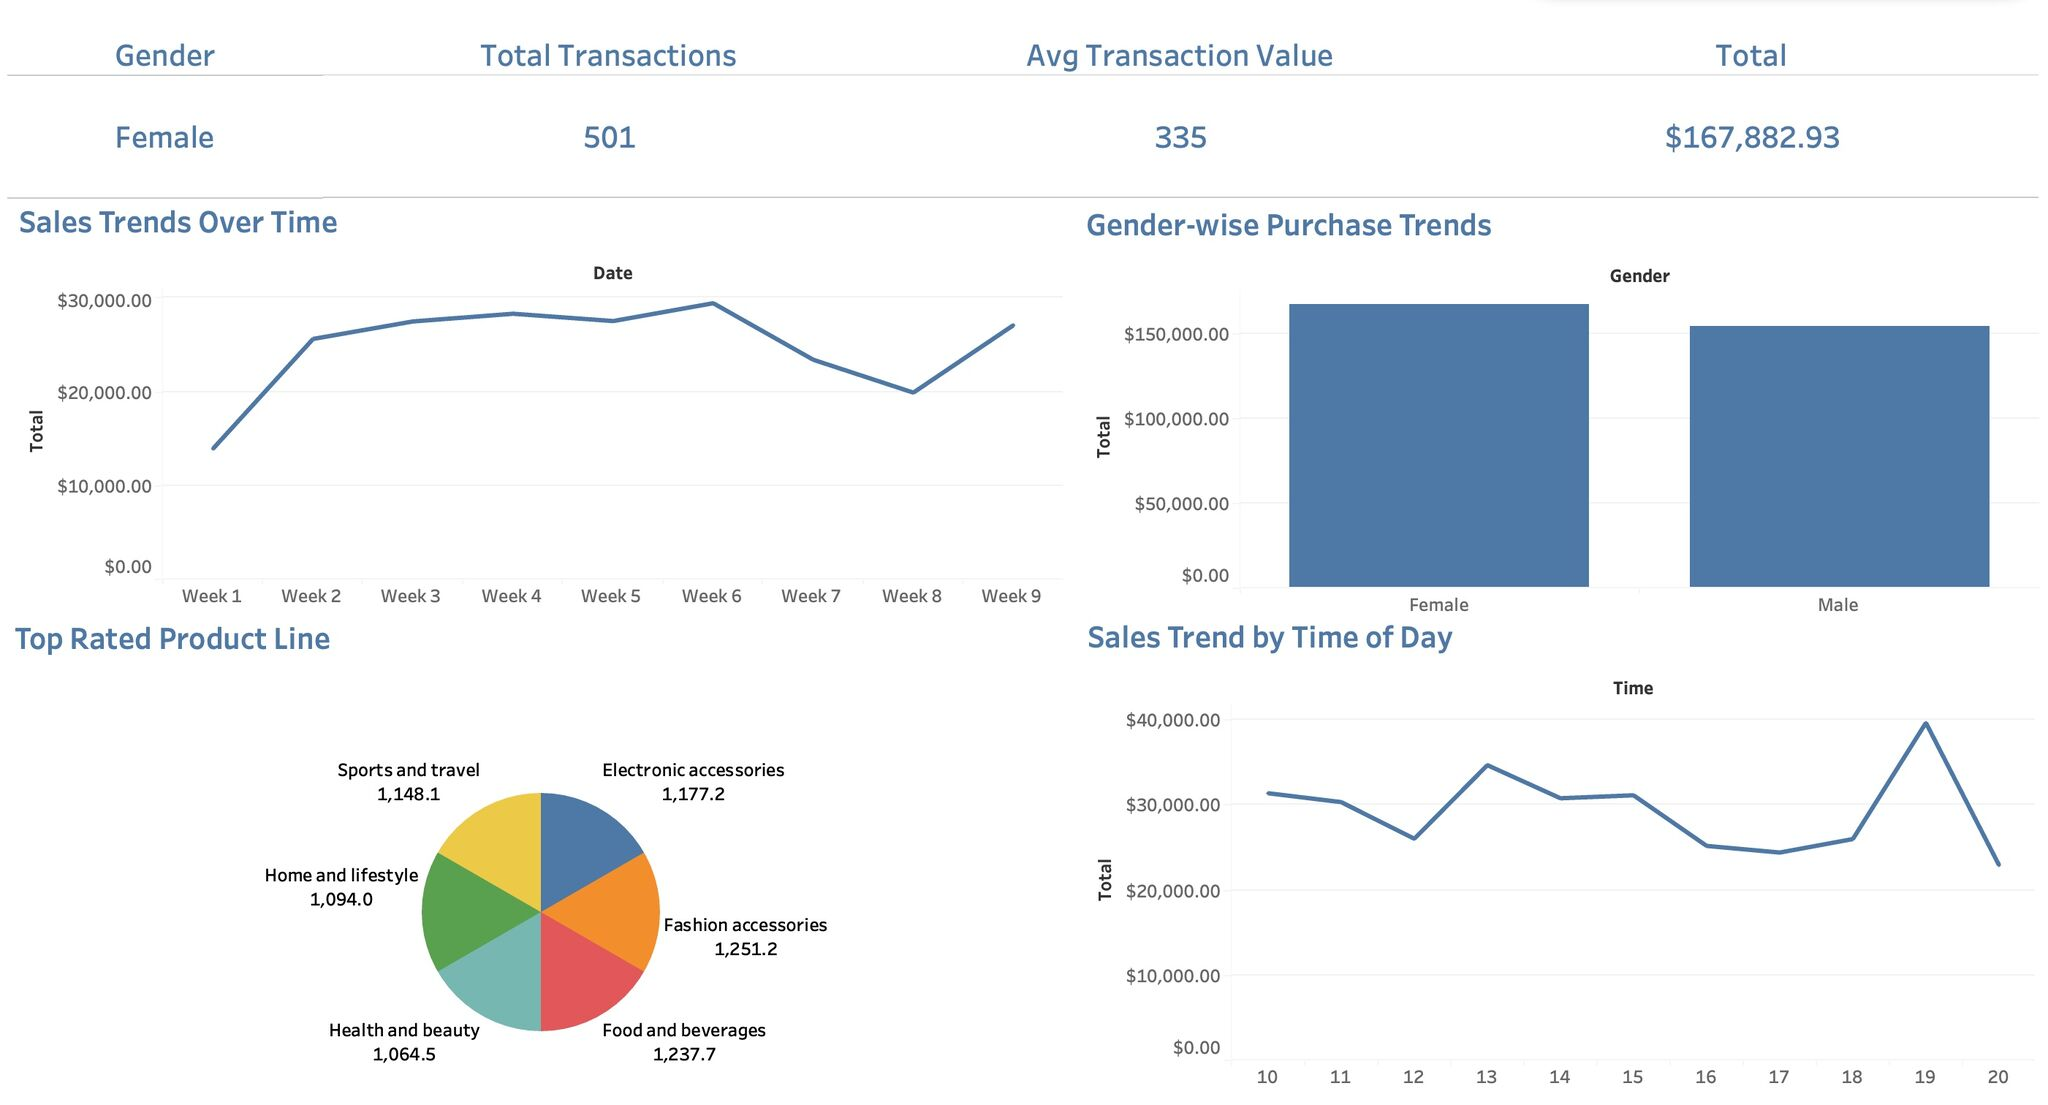

Layout of this report page (visuals, bound fields, positions):
{"tool":"tableau","page":{"name":"Dashboard 2","canvas":[1000,1000],"units":"permille","ordinal":1},"visuals":[{"type":"worksheet","title":"Summary 2","mark":"Automatic","rows":["Gender"],"box":[9.8,10.7,982.9,181.7]},{"type":"worksheet","title":"Sales Trends Over Time","mark":"Automatic","rows":["Total"],"cols":["Date"],"box":[13,189.3,507.7,369.5]},{"type":"worksheet","title":"Gender-wise Purchase Trends","mark":"Automatic","rows":["Total"],"cols":["Gender"],"box":[528.9,190.8,463.8,375.6]},{"type":"worksheet","title":"Sales Trend by Time of Day","mark":"Automatic","rows":["Total"],"cols":["Time"],"box":[529.7,558.8,461.4,429]}]}

Visuals, with their boxes on the dashboard's canvas, which has no fixed pixel size, in thousandths of its width and height (x1, y1, x2, y2). These are canvas units, not pixel positions in the 2048x1105 screenshot, which may show the page scaled, cropped or inside an application window:
"Summary 2" worksheet: {"left": 10, "top": 11, "right": 993, "bottom": 192}
"Sales Trends Over Time" worksheet: {"left": 13, "top": 189, "right": 521, "bottom": 559}
"Gender-wise Purchase Trends" worksheet: {"left": 529, "top": 191, "right": 993, "bottom": 566}
"Sales Trend by Time of Day" worksheet: {"left": 530, "top": 559, "right": 991, "bottom": 988}
